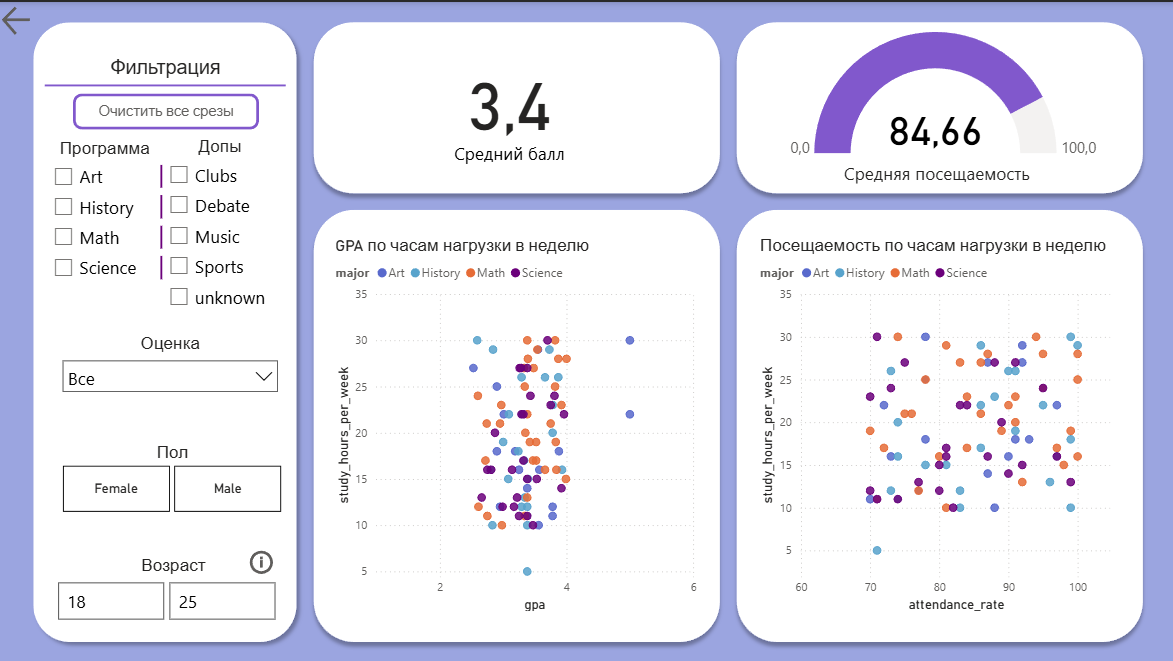

What the dashboard file says about the page in this screenshot:
{"tool":"powerbi","page":{"name":"Фильтрация, GPA и посещаемость","canvas":[1280,720],"ordinal":3},"visuals":[{"type":"group","id":"g1","title":"Группа 4","box":[30,13.3,303.3,690],"z":0},{"type":"group","id":"g2","title":"Группа 1","box":[30,13.3,303.3,690],"z":1000,"group":"g1"},{"type":"gauge","title":"Посещаемость","fields":{"Y":["Avg(grafna_final clean_student_data.attendance_rate)"]},"box":[848.3,26.7,351.4,148.6],"z":1000,"group":"g3"},{"type":"shape","box":[333.3,216.7,458.3,486.7],"z":1000},{"type":"shape","box":[791.7,216.7,458.3,486.7],"z":2000},{"type":"shape","box":[791.7,13.3,458.3,203.3],"z":3000},{"type":"shape","box":[30,13.3,303.3,690],"z":4000,"group":"g2"},{"type":"shape","box":[333,13.3,458.3,203.3],"z":4000},{"type":"scatterChart","title":"GPA по часам нагрузки в неделю","fields":{"X":["grafna_final clean_student_data.gpa"],"Series":["grafna_final clean_student_data.major"],"Y":["grafna_final clean_student_data.study_hours_per_week"]},"box":[361.4,254.3,401.4,411.4],"z":5000},{"type":"scatterChart","title":"Посещаемость по часам нагрузки в неделю","fields":{"Series":["grafna_final clean_student_data.major"],"X":["grafna_final clean_student_data.attendance_rate"],"Y":["grafna_final clean_student_data.study_hours_per_week"]},"box":[821.4,254.3,401.4,411.4],"z":6000},{"type":"slicer","title":"Программа","fields":{"Values":["grafna_final clean_student_data.major"]},"box":[50,148.6,134,270],"z":7000,"group":"g1"},{"type":"slicer","title":"Оценка","fields":{"Values":["grafna_final clean_student_data.extracurricular_activities"]},"box":[60,360,253.3,85],"z":7000},{"type":"textbox","box":[106.7,53.3,148.3,45],"z":8000},{"type":"slicer","title":"Возраст","fields":{"Values":["grafna_final clean_student_data.age"]},"box":[53,600.3,276.6,79.7],"z":8000,"group":"g1"},{"type":"shape","box":[50,83.3,261.7,15],"z":9000},{"type":"slicer","title":"Допы","fields":{"Values":["grafna_final clean_student_data.extracurricular_activities"]},"box":[175.6,147.4,133.3,300],"z":9000,"group":"g1"},{"type":"card","title":"Посещаемость","fields":{"Values":["Avg(grafna_final clean_student_data.gpa)"]},"box":[431.7,13.3,246.7,203.3],"z":10000},{"type":"textbox","box":[886.3,167.7,258.5,34.6],"z":10000,"group":"g3"},{"type":"actionButton","box":[269.1,590.9,37.5,34.4],"z":10000,"group":"g1"},{"type":"group","id":"g3","title":"Группа 8","box":[848.3,26.7,351.7,175],"z":11000},{"type":"advancedSlicerVisual","title":"Пол","fields":{"Values":["grafna_final clean_student_data.gender"]},"box":[65,477.7,248.3,80],"z":11000,"group":"g1"},{"type":"actionButton","box":[0,0,56.9,40.7],"z":12000},{"type":"actionButton","box":[81.3,99.2,201.7,39],"z":13000}]}

Visuals, with their boxes in screenshot pixels (x1, y1, x2, y2), scaled from the page's 1280x720 canvas onto the 1173x661 screenshot:
"Группа 4" group: pyautogui.locateOnScreen(27, 12, 305, 646)
"Группа 1" group: pyautogui.locateOnScreen(27, 12, 305, 646)
"Посещаемость" gauge: pyautogui.locateOnScreen(777, 25, 1099, 161)
shape: pyautogui.locateOnScreen(305, 199, 725, 646)
shape: pyautogui.locateOnScreen(726, 199, 1146, 646)
shape: pyautogui.locateOnScreen(726, 12, 1146, 199)
shape: pyautogui.locateOnScreen(27, 12, 305, 646)
shape: pyautogui.locateOnScreen(305, 12, 725, 199)
"GPA по часам нагрузки в неделю" scatterChart: pyautogui.locateOnScreen(331, 233, 699, 611)
"Посещаемость по часам нагрузки в неделю" scatterChart: pyautogui.locateOnScreen(753, 233, 1121, 611)
"Программа" slicer: pyautogui.locateOnScreen(46, 136, 169, 384)
"Оценка" slicer: pyautogui.locateOnScreen(55, 330, 287, 409)
textbox: pyautogui.locateOnScreen(98, 49, 234, 90)
"Возраст" slicer: pyautogui.locateOnScreen(49, 551, 302, 624)
shape: pyautogui.locateOnScreen(46, 76, 286, 90)
"Допы" slicer: pyautogui.locateOnScreen(161, 135, 283, 411)
"Посещаемость" card: pyautogui.locateOnScreen(396, 12, 622, 199)
textbox: pyautogui.locateOnScreen(812, 154, 1049, 186)
actionButton: pyautogui.locateOnScreen(247, 542, 281, 574)
"Группа 8" group: pyautogui.locateOnScreen(777, 25, 1100, 185)
"Пол" advancedSlicerVisual: pyautogui.locateOnScreen(60, 439, 287, 512)
actionButton: pyautogui.locateOnScreen(0, 0, 52, 37)
actionButton: pyautogui.locateOnScreen(75, 91, 259, 127)
